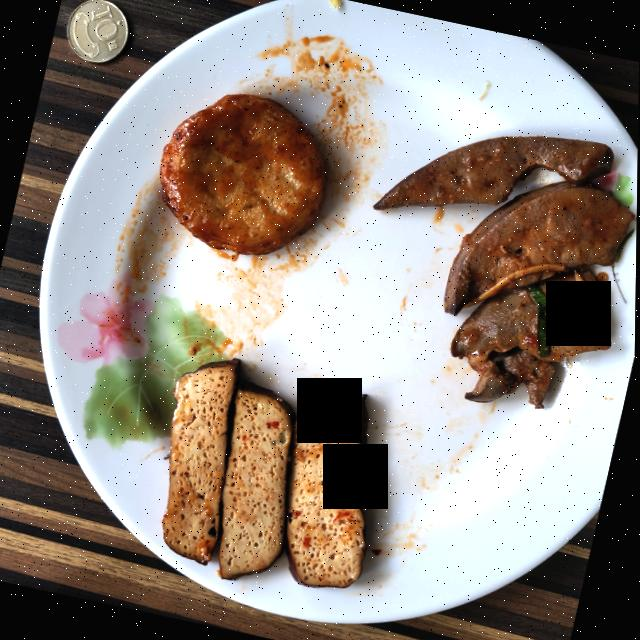coin: (67, 0, 129, 62)
firm tofu: (164, 358, 368, 586)
fish cake: (160, 93, 326, 254)
pig liver: (374, 135, 636, 407)
